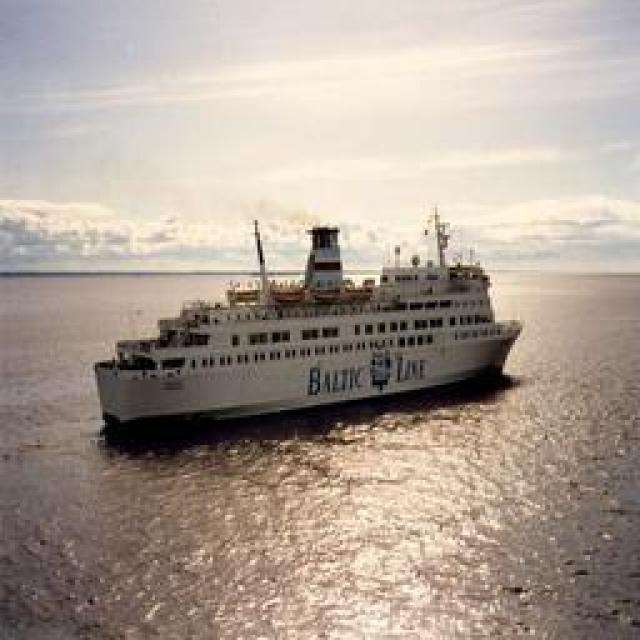CIV_Ship: (90, 211, 520, 441)
